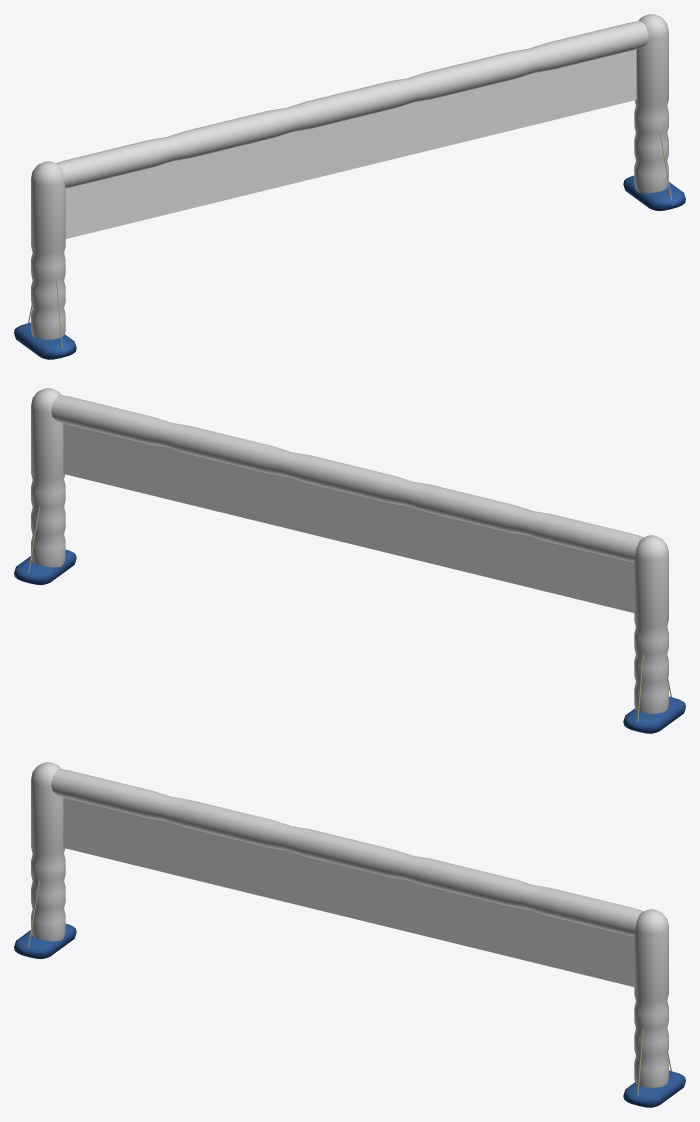
File: SM_RaceArch.glb
The picture shows the model from 3 angles, top to bottom: view 1: azimuth 30°, elevation 25°; view 2: azimuth 150°, elevation 25°; view 3: azimuth 330°, elevation 25°; orthographic projection.
Visible parts, largest first — view 1: SM_RaceArch, SignFace; view 2: SM_RaceArch, SignFace; view 3: SM_RaceArch, SignFace.
Part boxes in pixels (box(x1,y1,x2,y2)): SM_RaceArch: box(14, 14, 685, 359); SignFace: box(65, 49, 636, 238); SM_RaceArch: box(14, 388, 685, 733); SignFace: box(63, 423, 634, 612); SM_RaceArch: box(14, 762, 685, 1107); SignFace: box(63, 797, 634, 986).
Size of the model in its own units: 42.8 by 11.65 by 4.4.
3 materials, 1 textured.
